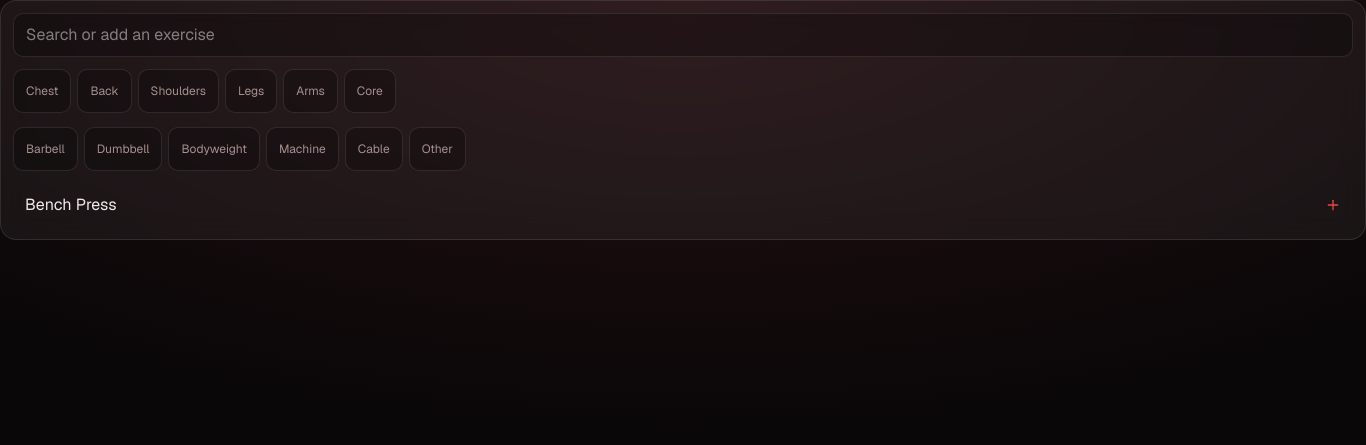
Test: ExercisePicker creation › pre-fills the chips from the active filters
The width and height of the screenshot is (1366, 445).
Click the button "Chest".
click(42, 91)  # box [13,69,72,113]
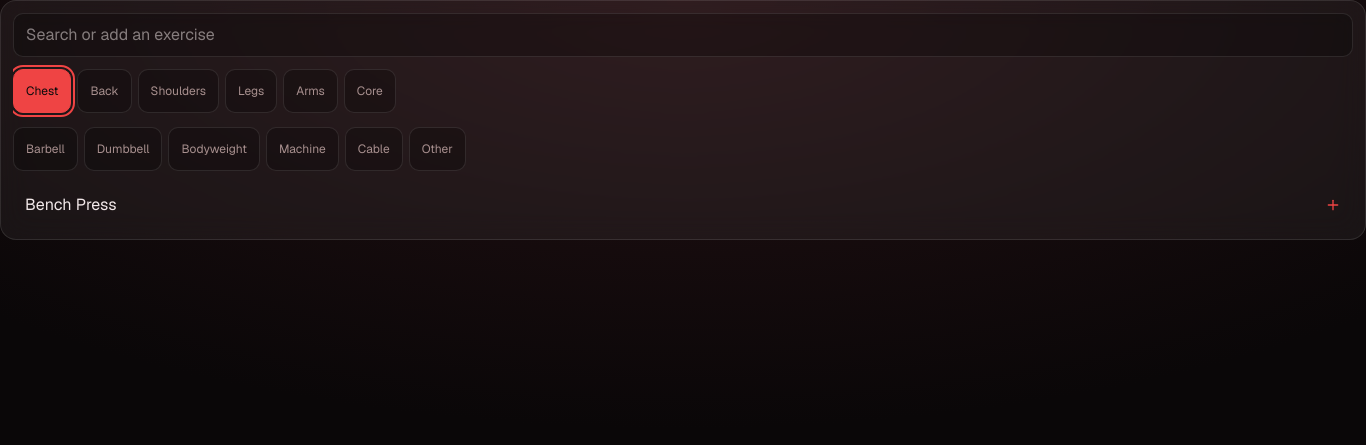
Click the button "Machine".
click(302, 149)  # box [266,127,339,171]
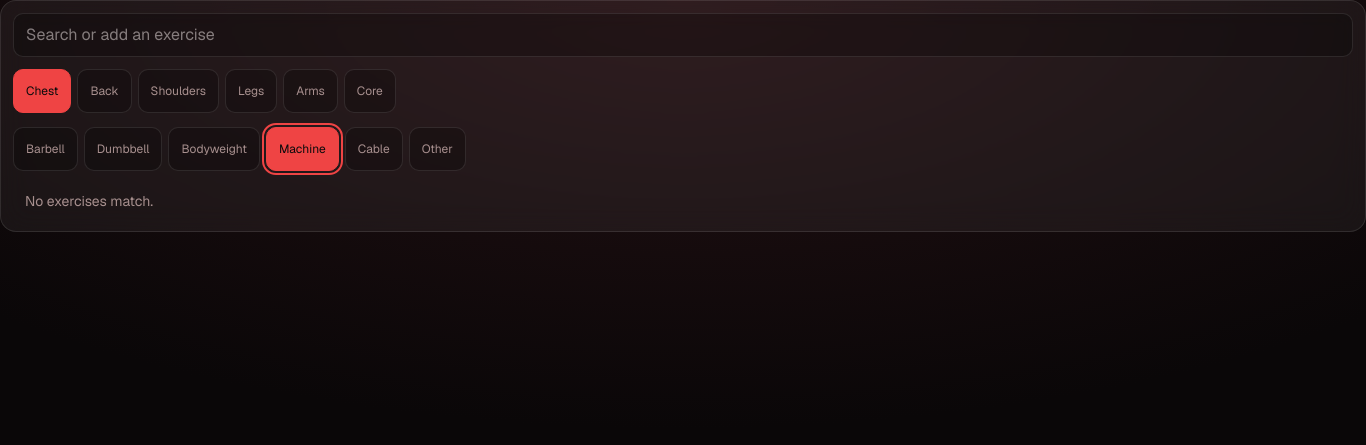
Type "Pec Deck" into the field with placeholder "Search or add an exercise".
click(683, 35); type("Pec Deck")  # box [13,13,1353,57]
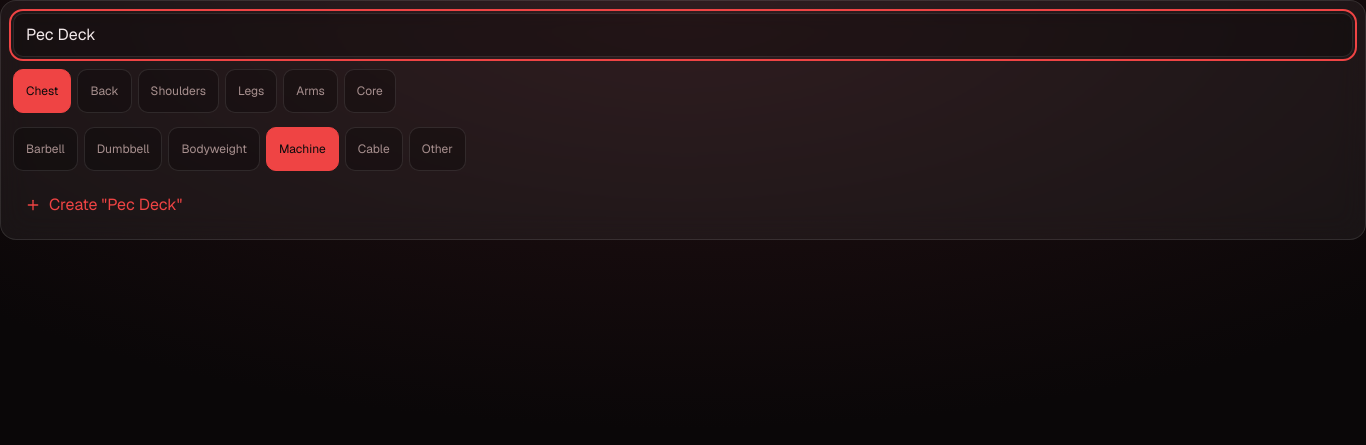
Click the button "Create \"Pec Deck\"".
click(78, 204)  # box [13,183,1353,227]
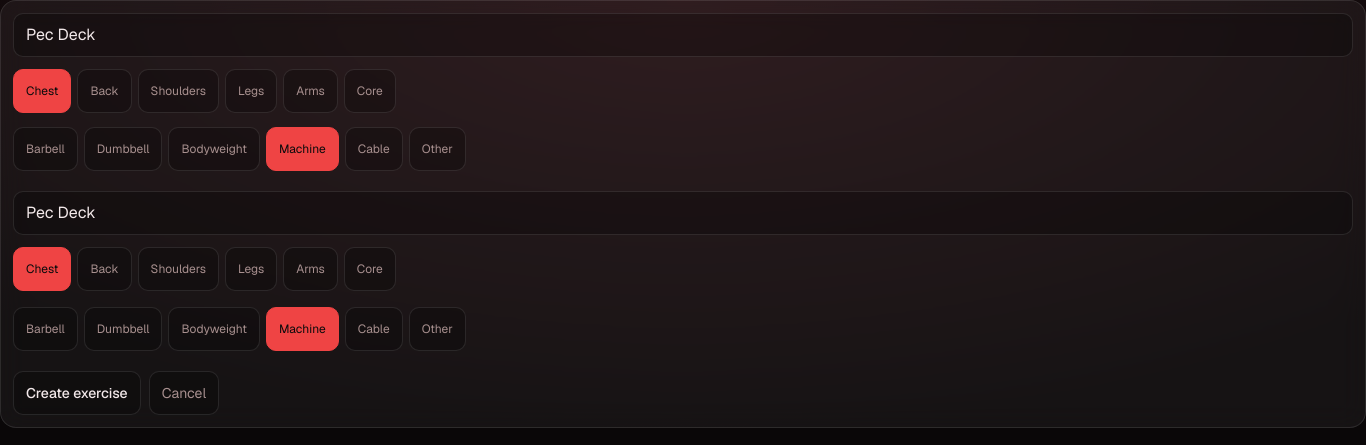
Expected: the radio button labelled "Chest" is checked, [13,247,72,291]
Expected: the radio button labelled "Machine" is checked, [266,307,339,351]
Expected: the button "Create exercise" is enabled, [13,371,141,415]
